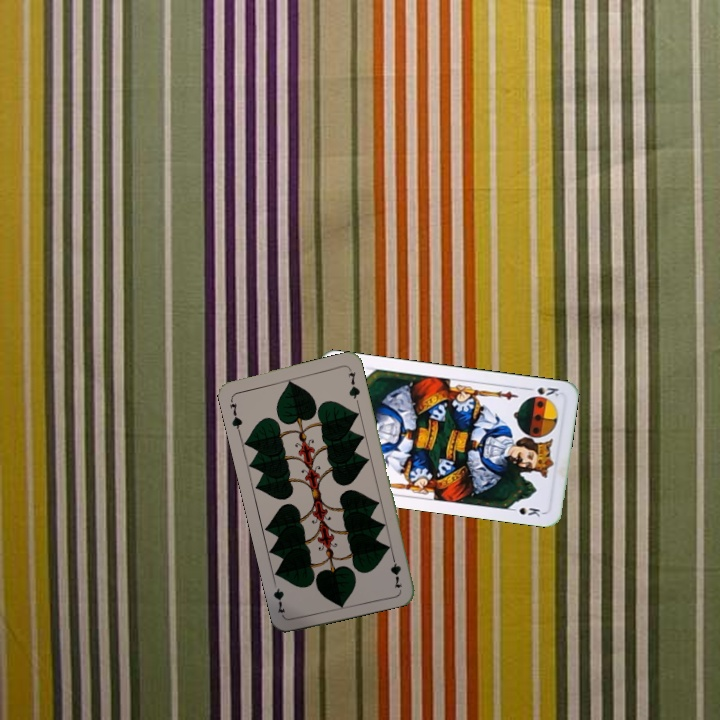G7: (226, 394, 245, 435), (386, 550, 405, 590)
SK: (522, 383, 561, 401)
